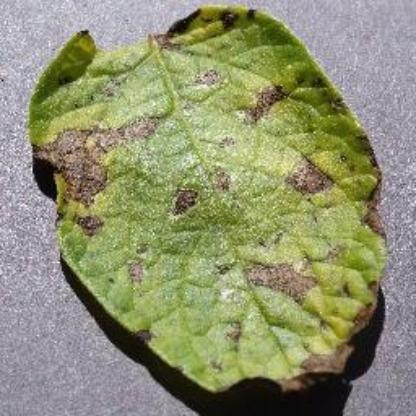Early-Blight: (26, 3, 390, 397)
